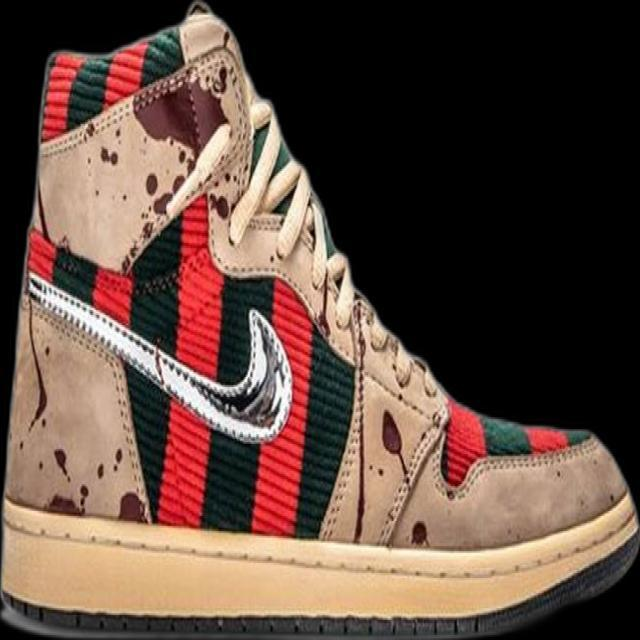J1_InsoleChar: (0, 0, 639, 639)
J1_StitchPattern: (18, 264, 601, 546), (228, 99, 449, 545), (0, 499, 639, 587), (23, 270, 294, 444), (316, 276, 447, 546), (115, 98, 315, 274), (20, 273, 156, 523), (38, 44, 243, 159), (1, 593, 480, 639), (225, 98, 315, 259), (438, 432, 601, 499), (375, 408, 448, 548), (347, 297, 371, 545)
